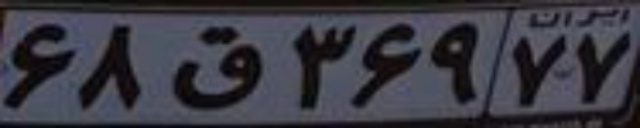3: (287, 22, 355, 111)
6: (3, 21, 73, 108), (356, 22, 422, 112)
7: (508, 32, 566, 109), (574, 29, 631, 105)
8: (76, 22, 142, 110)
9: (427, 19, 479, 104)
ghaf: (170, 25, 264, 111)
